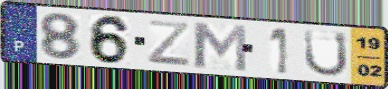1: (267, 27, 290, 75)
6: (87, 13, 134, 65)
8: (37, 11, 84, 61)
M: (190, 20, 250, 74)
U: (302, 28, 350, 79)
Z: (146, 18, 194, 68)
